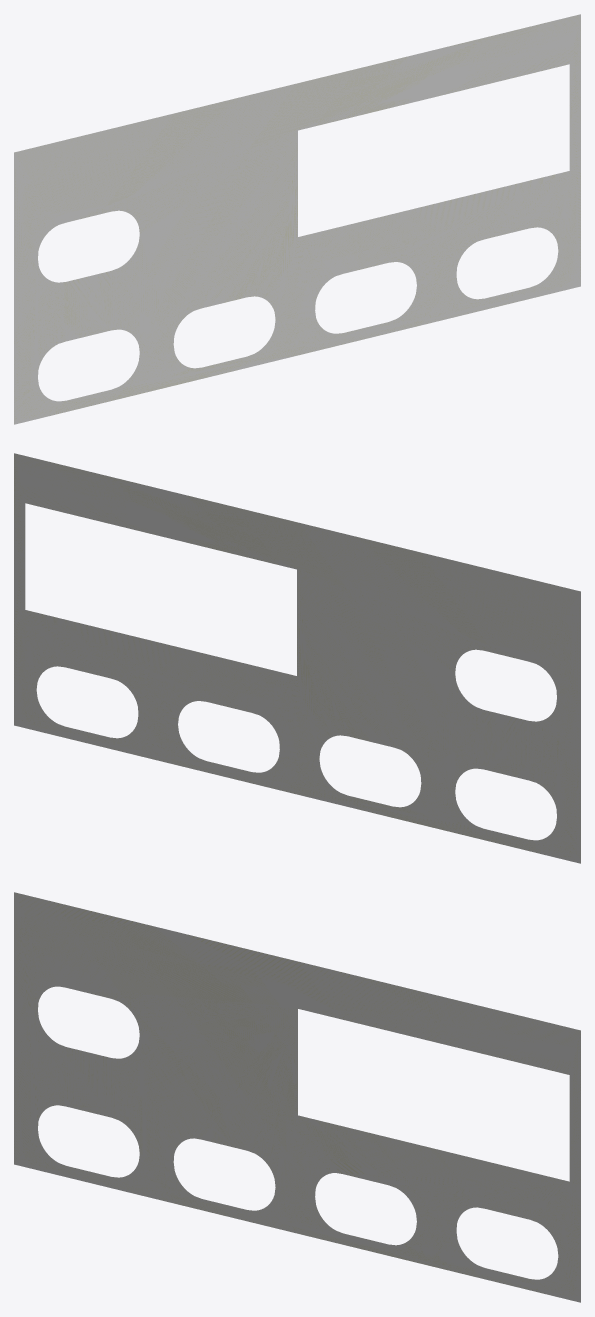
File: original-45.obj
3 views of the same model, one above another, from view 1: azimuth 30°, elevation 25°; view 2: azimuth 150°, elevation 25°; view 3: azimuth 330°, elevation 25° (orthographic).
Visible parts, largest first — view 1: mesh9/mesh9-geometry/material_3/component_1#mesh9-geometry; view 2: mesh9/mesh9-geometry/material_3/component_1#mesh9-geometry; view 3: mesh9/mesh9-geometry/material_3/component_1#mesh9-geometry.
Part boxes in pixels (x1,y1,x2,y2): mesh9/mesh9-geometry/material_3/component_1#mesh9-geometry: (14, 14, 580, 424); mesh9/mesh9-geometry/material_3/component_1#mesh9-geometry: (14, 453, 580, 863); mesh9/mesh9-geometry/material_3/component_1#mesh9-geometry: (14, 892, 580, 1302).
Size of the model in its own units: 0.5068 by 0.2326 by 0.
